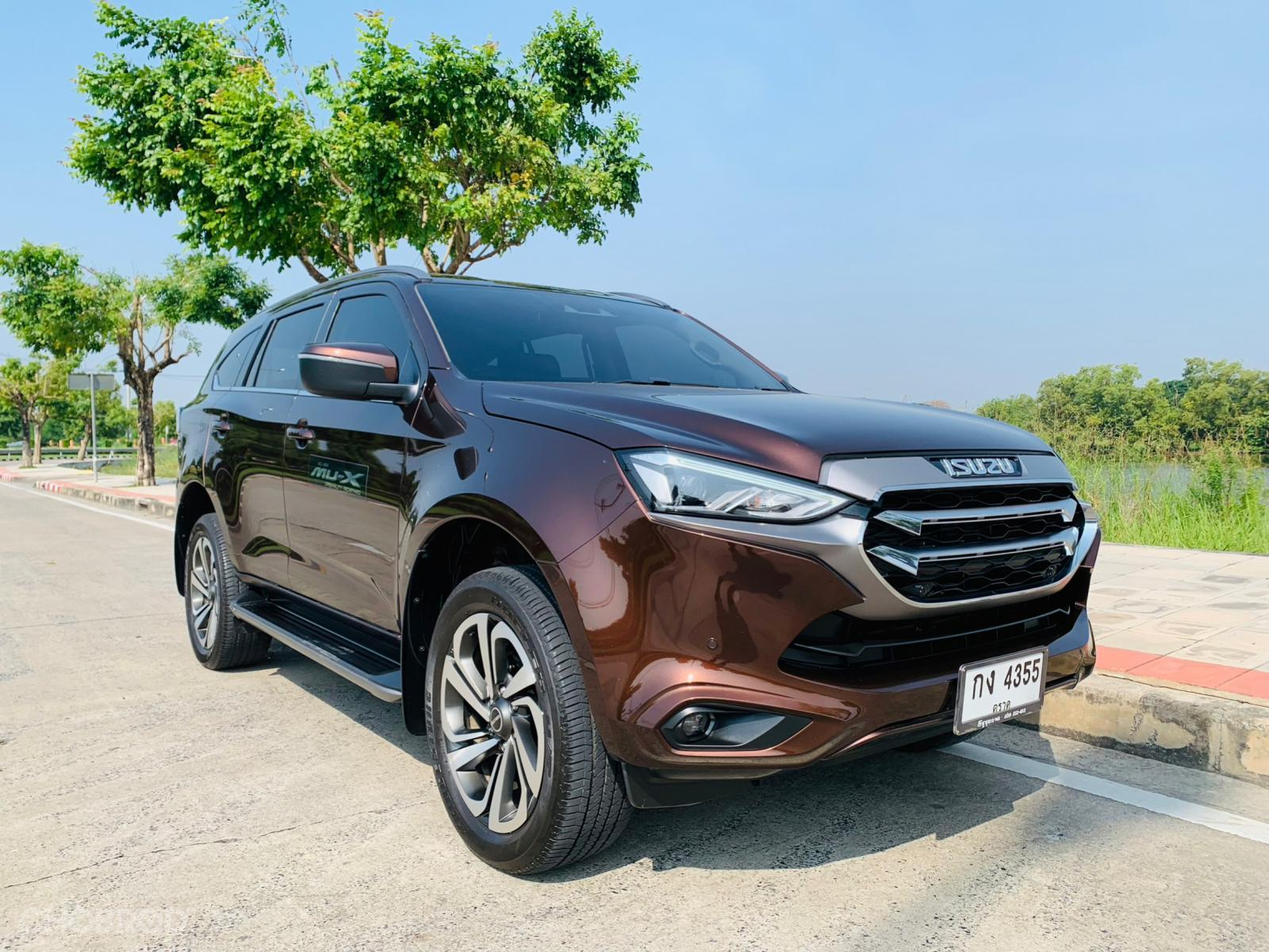license-plate: (951, 647, 1058, 747)
